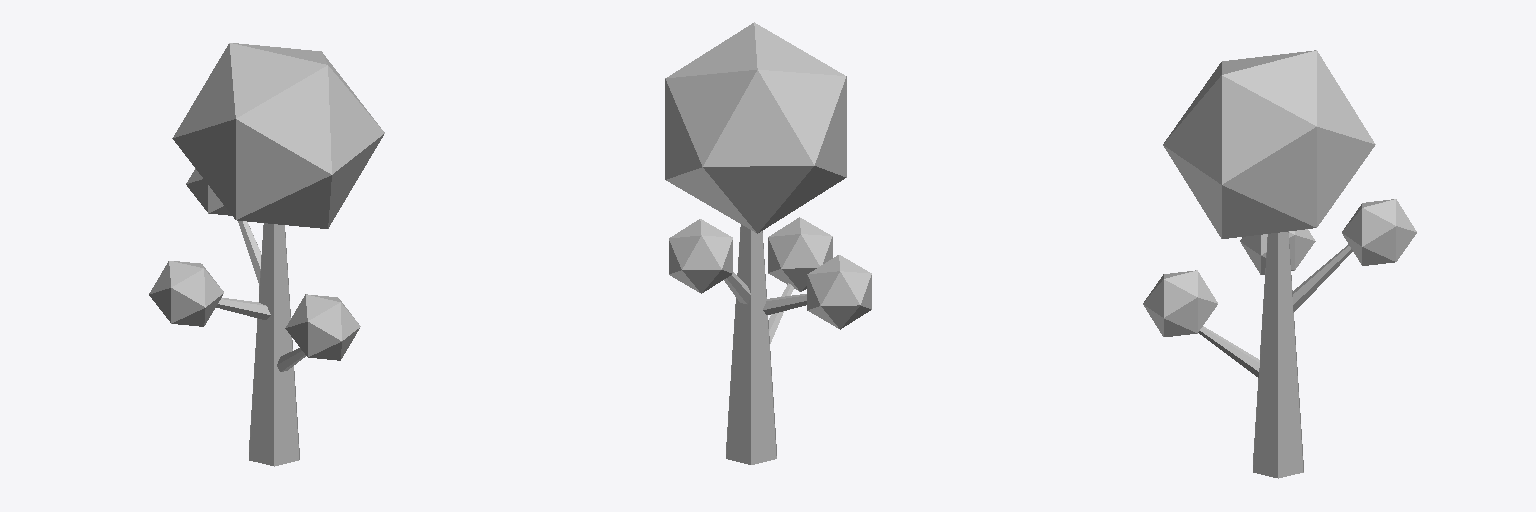
Rendered from Arbol_4.obj.
The picture shows the model from 3 angles: view 1: azimuth 30°, elevation 25°; view 2: azimuth 150°, elevation 25°; view 3: azimuth 270°, elevation 25°; orthographic projection.
Visible parts, largest first — view 1: Arbol_4; view 2: Arbol_4; view 3: Arbol_4.
Boxes of the visible parts, x1=… form: Arbol_4: x1=149, y1=43, x2=384, y2=466; Arbol_4: x1=665, y1=22, x2=871, y2=464; Arbol_4: x1=1143, y1=50, x2=1416, y2=478.
Bounding box in the file's own units: 2.17 × 4.18 × 2.58.